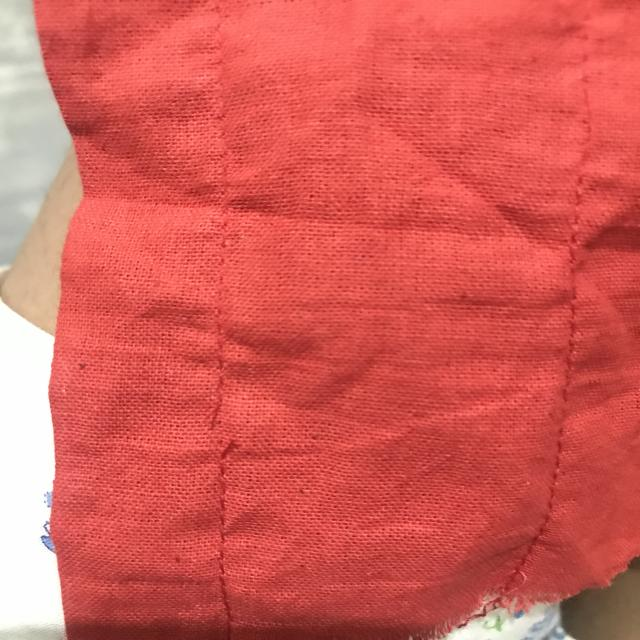broken: (183, 380, 251, 472)
